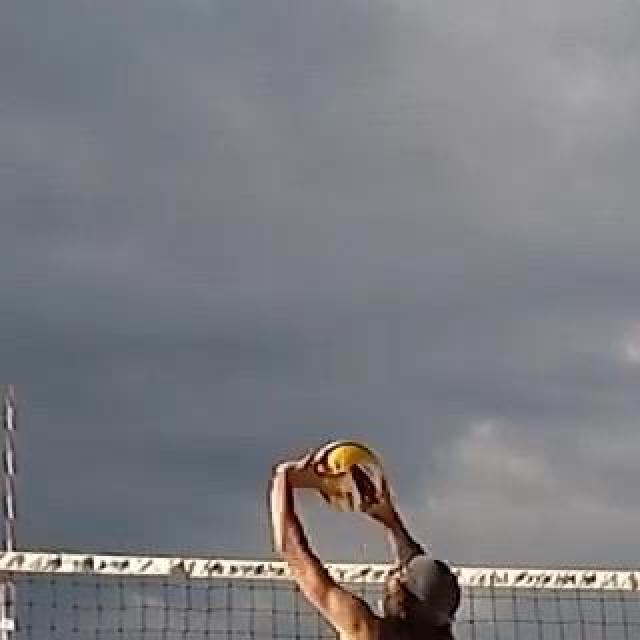volleyball: (317, 444, 387, 520)
